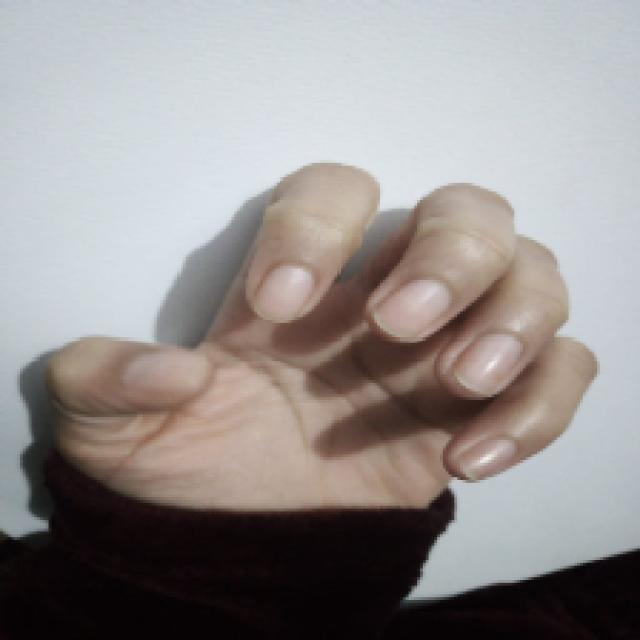Nail: (372, 280, 451, 340), (454, 334, 522, 395), (122, 350, 211, 391), (255, 265, 314, 322), (455, 438, 518, 481)
